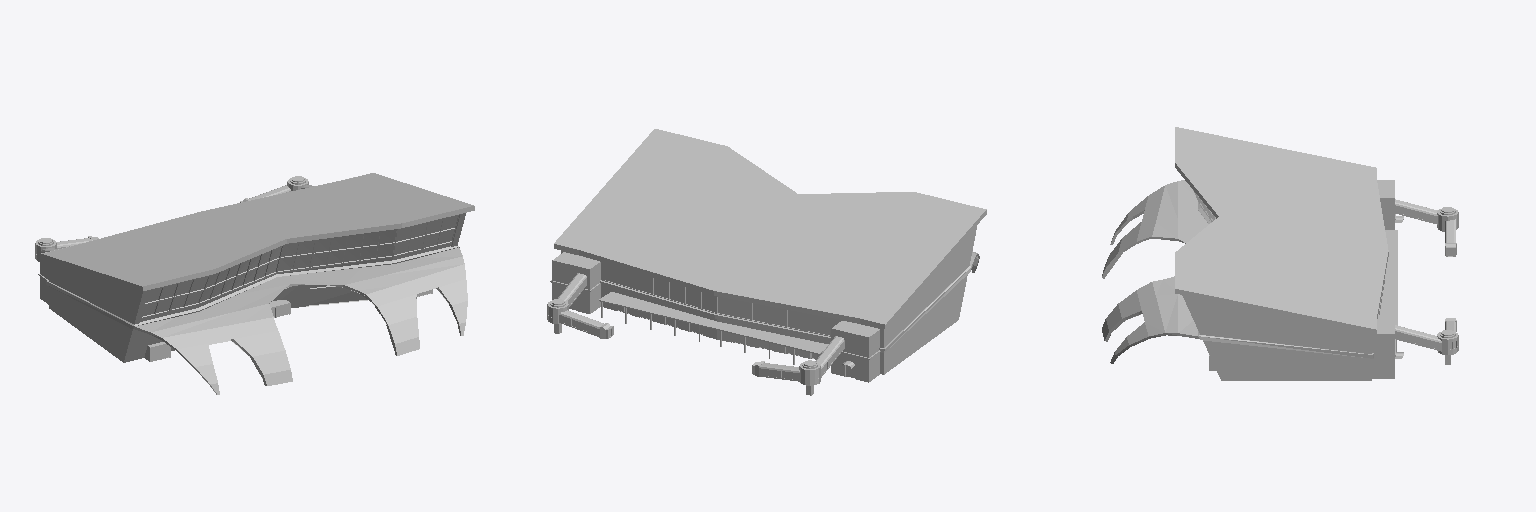
File: air_building1.obj
3 renders of one model, left to right at view 1: azimuth 30°, elevation 25°; view 2: azimuth 150°, elevation 25°; view 3: azimuth 270°, elevation 25°, orthographic.
Parts seen in each view (by area): view 1: airport_building_01; view 2: airport_building_01; view 3: airport_building_01.
Boxes of the visible parts, x1,y1,x2,y2 form: airport_building_01: [35, 173, 474, 394]; airport_building_01: [547, 129, 986, 395]; airport_building_01: [1102, 127, 1458, 380].
Size of the model in its own units: 12.83 by 3.58 by 11.96.